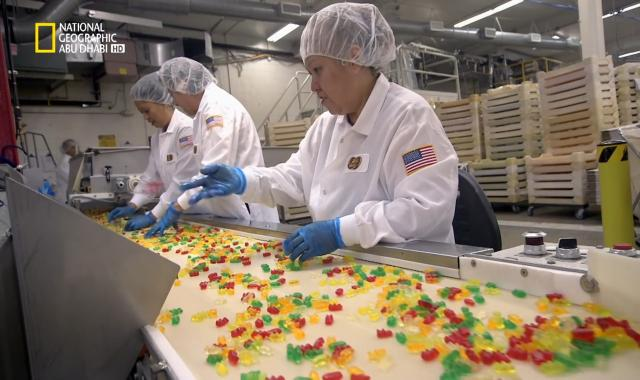hairnet: (296, 1, 396, 78), (125, 69, 173, 125), (158, 58, 218, 98)
